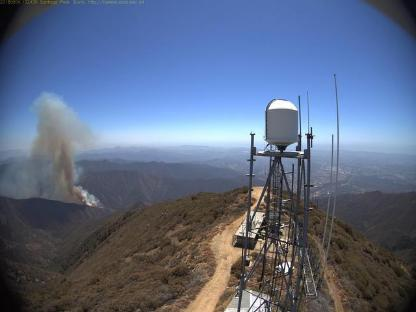smoke: (2, 93, 100, 211)
